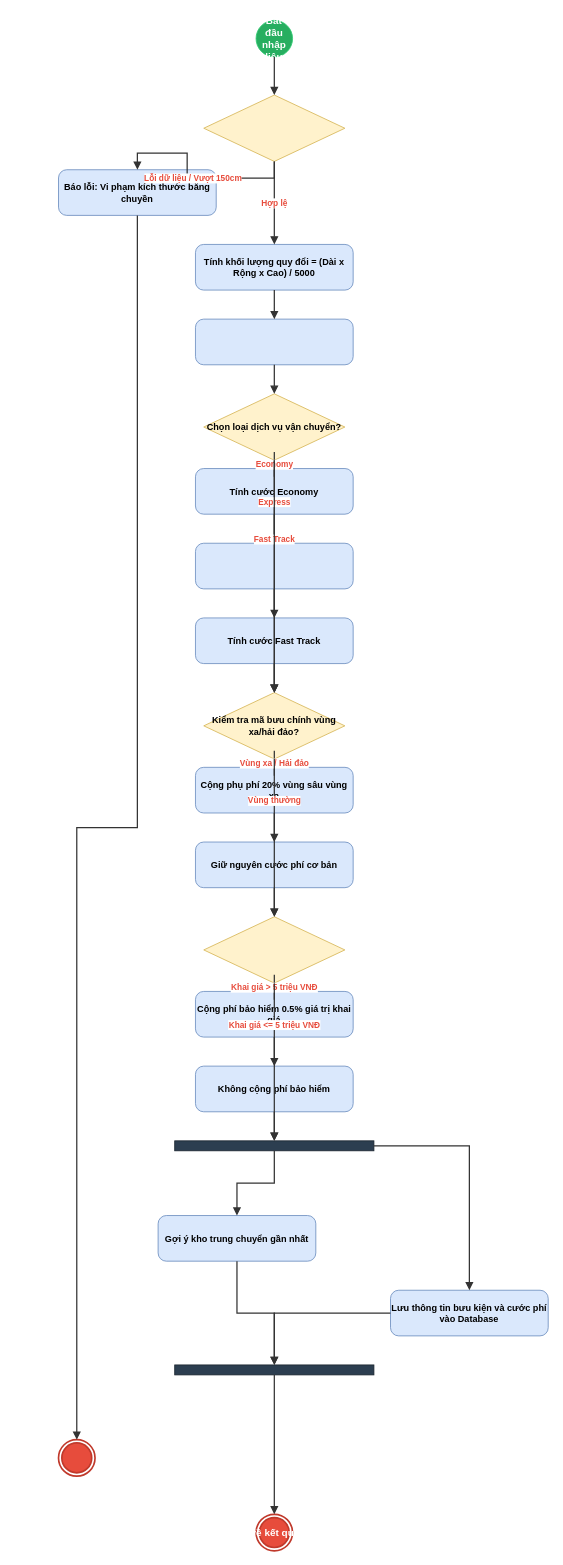
The diagram is 563 pixels wide and 1565 high, and some of its shapes have lost their labels. The shapes that lost their labels are listed below. From the top down, each one's box as (x1, y1, x2, y2) in pixels, then its label:
(203, 94, 345, 161): Kiểm tra định dạng Input Kích thước & Cân nặng?
(195, 318, 353, 365): Khối lượng tính cước = Max(Thực tế, Quy đổi)
(195, 542, 353, 589): Tính cước Express
(203, 916, 345, 983): Kiểm tra giá trị khai giá > 5.000.000đ?
(174, 1140, 374, 1151): Xử lý song song định tuyến và lưu trữ
(174, 1364, 374, 1375): Đồng bộ tác vụ
(57, 1438, 95, 1477): Kết thúc: Từ chối vận đơn
